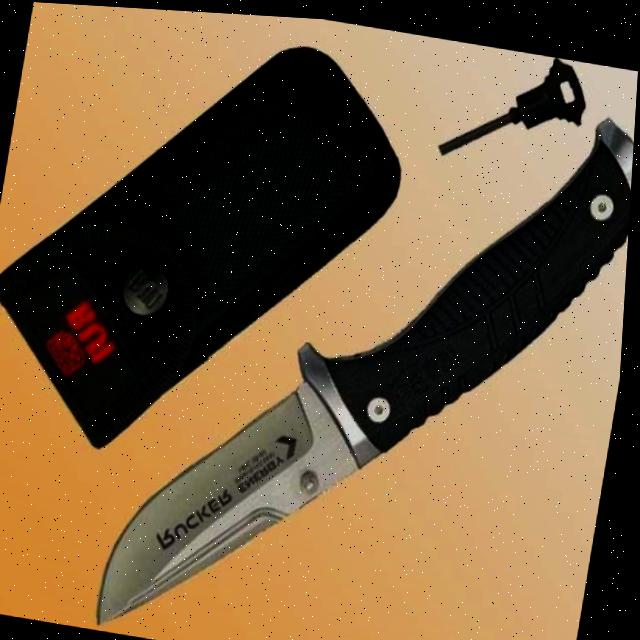knife: (94, 45, 638, 640)
